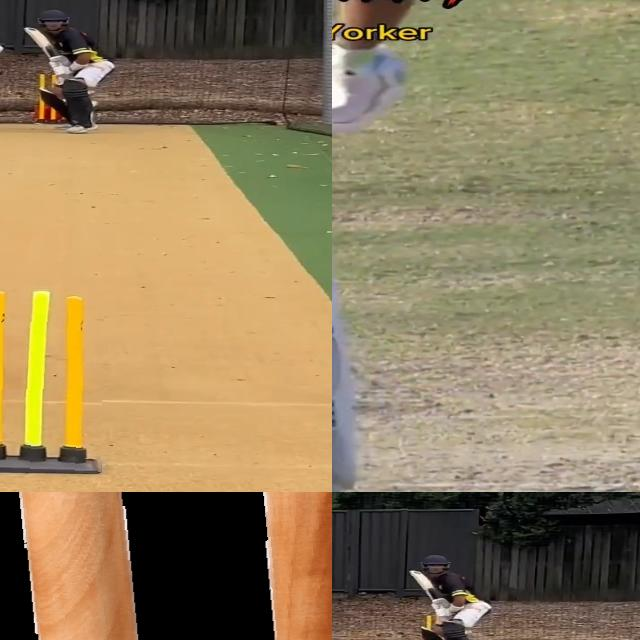Cricket ball: (0, 43, 5, 56)
Stumps: (0, 492, 332, 640), (0, 285, 104, 472)
